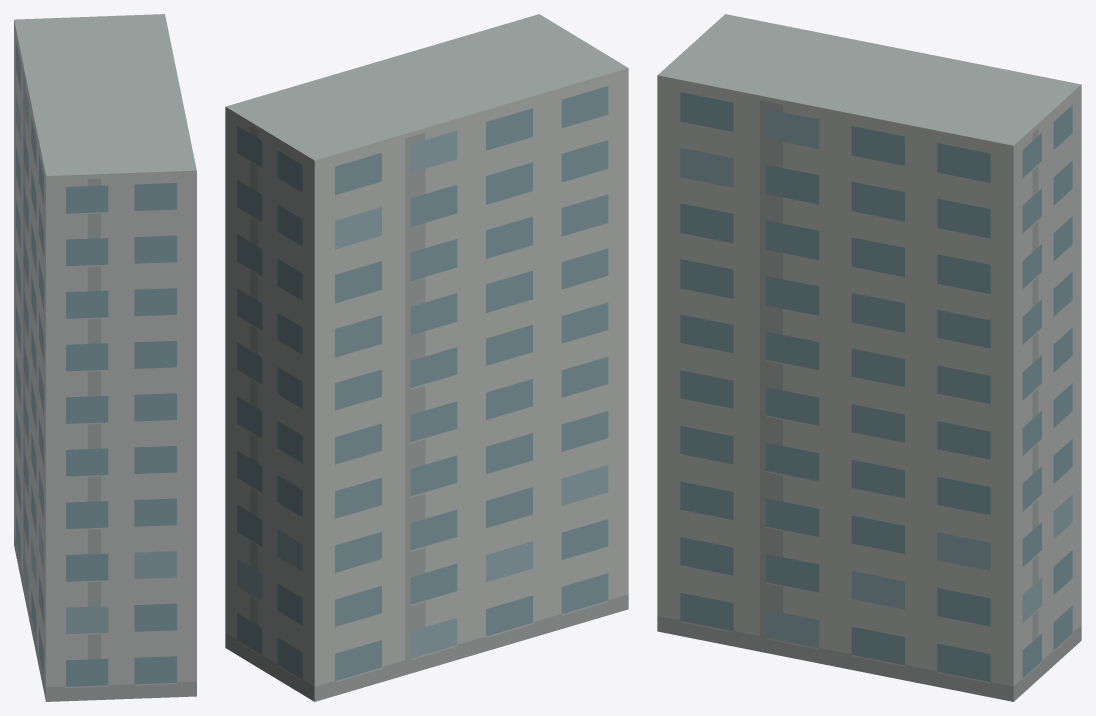
The model's file is residential-c820a99a-b846-440e-a11f-7621d883bf2f.glb.
3 renders of one model, left to right at view 1: azimuth 30°, elevation 25°; view 2: azimuth 150°, elevation 25°; view 3: azimuth 270°, elevation 25°, orthographic. The views are drawn at different scales.
Parts seen in each view (by area): view 1: residential-c820a99a-b846-440e-a11f-7621d883bf2f.tmp; view 2: residential-c820a99a-b846-440e-a11f-7621d883bf2f.tmp; view 3: residential-c820a99a-b846-440e-a11f-7621d883bf2f.tmp.
Boxes of the visible parts, x1=… form: residential-c820a99a-b846-440e-a11f-7621d883bf2f.tmp: x1=14, y1=14, x2=196, y2=701; residential-c820a99a-b846-440e-a11f-7621d883bf2f.tmp: x1=225, y1=14, x2=628, y2=701; residential-c820a99a-b846-440e-a11f-7621d883bf2f.tmp: x1=657, y1=14, x2=1081, y2=701.
Bounding box in the file's own units: 14.74 × 29 × 20.05.
